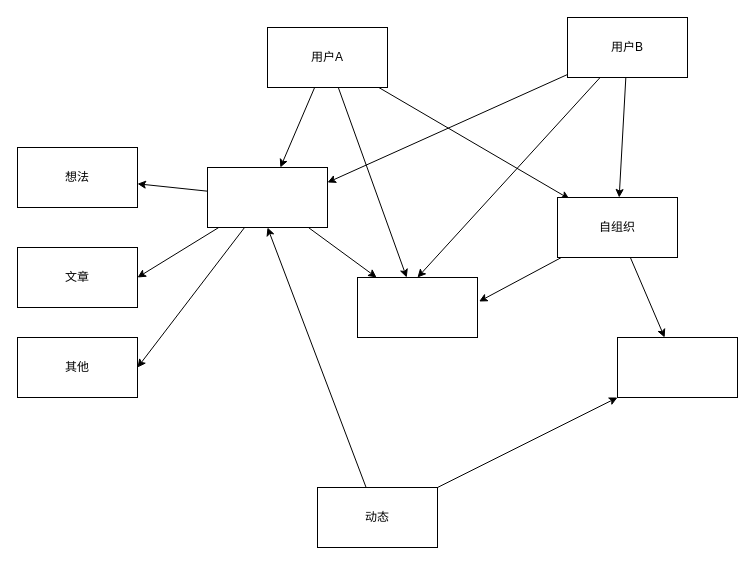
Image size: 755x565. Some labels were removed from this diagram. The shapes that lost their labels are listed below. From the top down, each one's centre as x and y in pixels, then its label:
pixel 267 197: 表达
pixel 417 307: 第一印象
pixel 677 367: 创造
